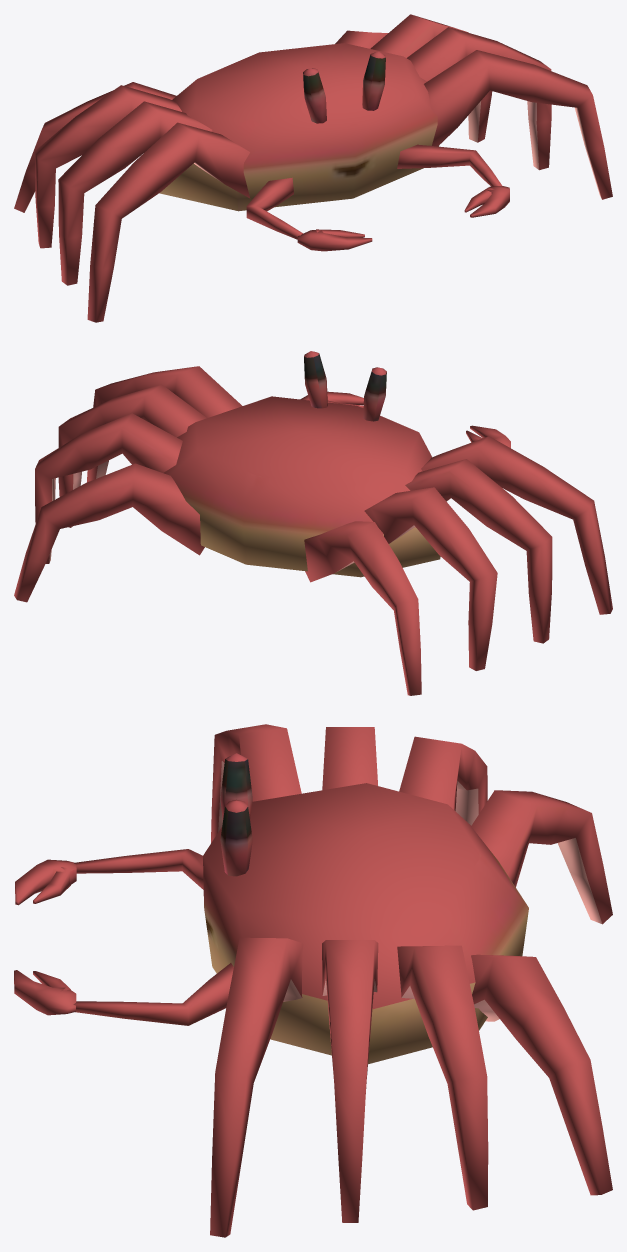
The model's file is crab.glb.
The picture shows the model from 3 angles, top to bottom: view 1: azimuth 30°, elevation 25°; view 2: azimuth 150°, elevation 25°; view 3: azimuth 270°, elevation 25°; orthographic projection. The views are drawn at different scales.
Visible parts, largest first — view 1: crab; view 2: crab; view 3: crab.
Boxes of the visible parts, x1,y1,x2,y2 form: crab: [14, 14, 612, 322]; crab: [14, 351, 612, 695]; crab: [14, 724, 612, 1237].
Size of the model in its own units: 1 by 0.3575 by 0.692.
Materials: 1 (1 with a texture image).
